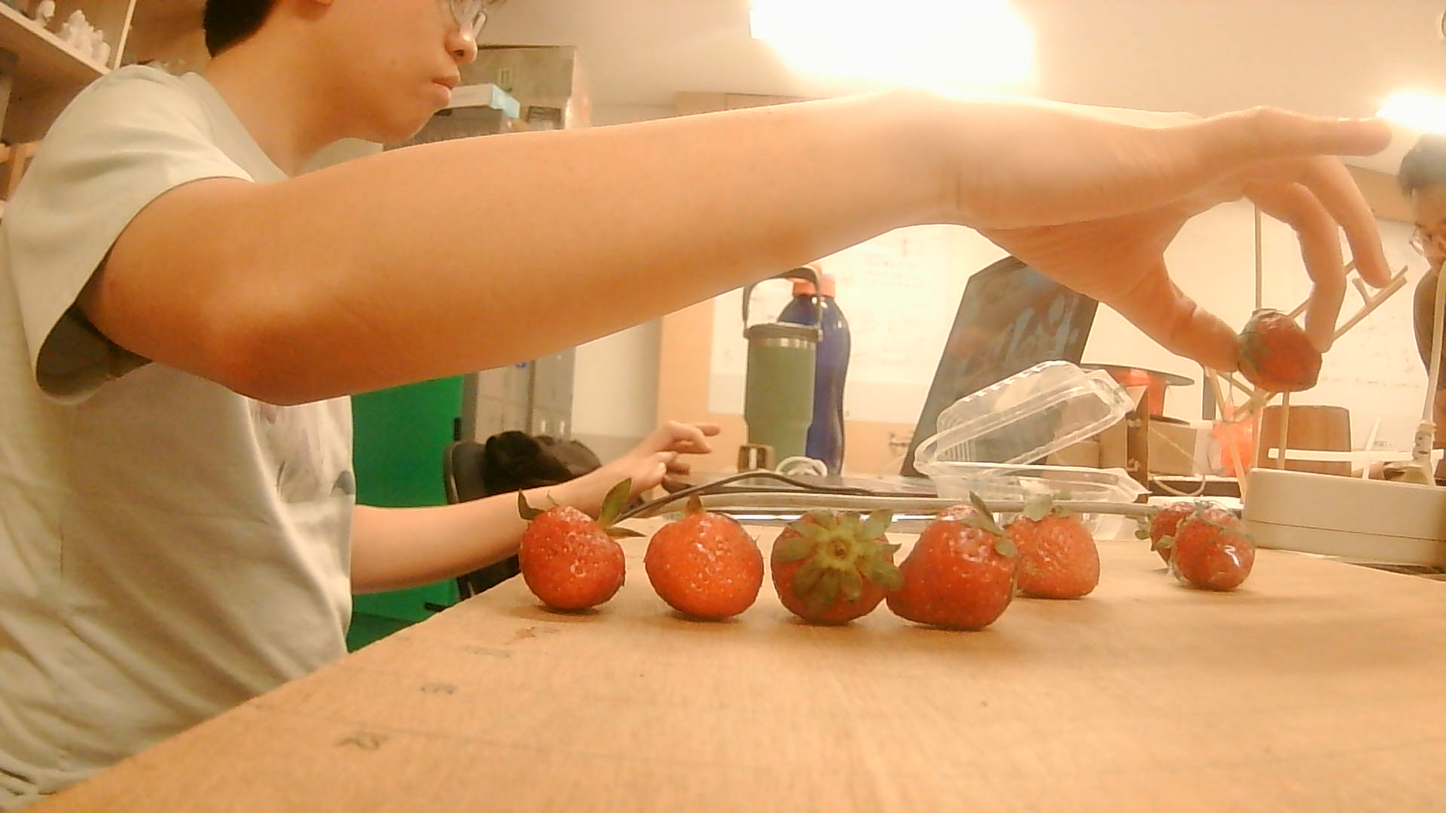strawberry: (878, 499, 1012, 635), (773, 510, 890, 620), (981, 492, 1103, 597), (648, 510, 762, 617), (516, 505, 627, 611), (1175, 497, 1256, 589), (1242, 306, 1324, 388), (1146, 495, 1233, 572)
